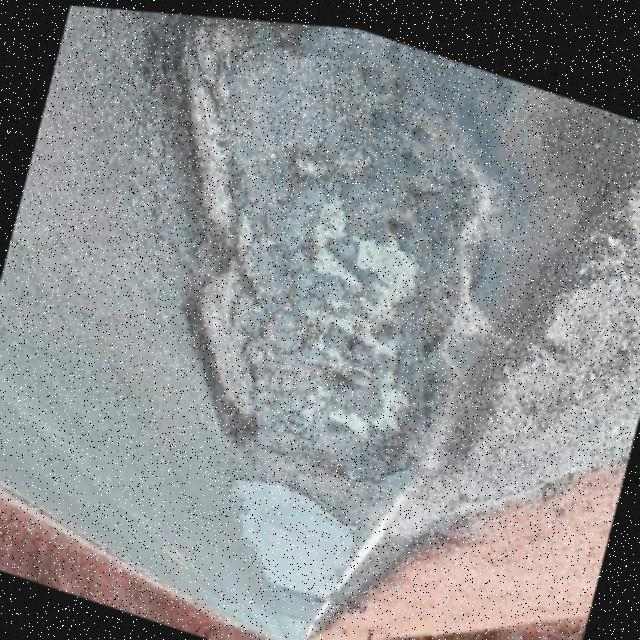pothole: (117, 8, 288, 236), (158, 240, 300, 453)
